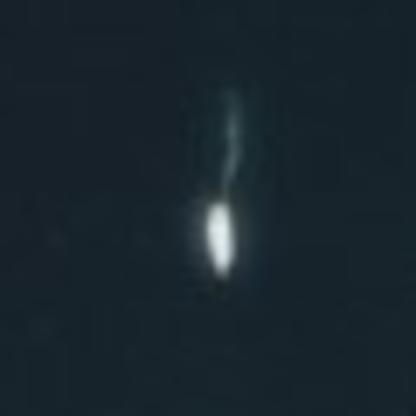ship: (193, 188, 245, 285)
